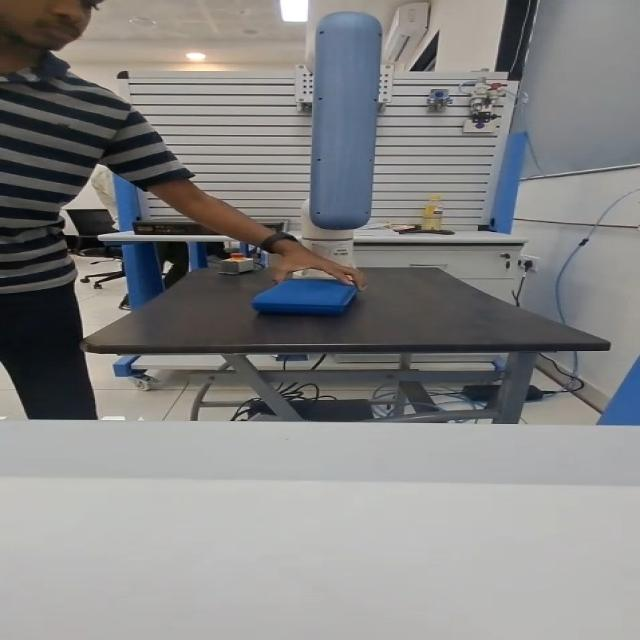top-surface: (269, 280, 345, 296)
